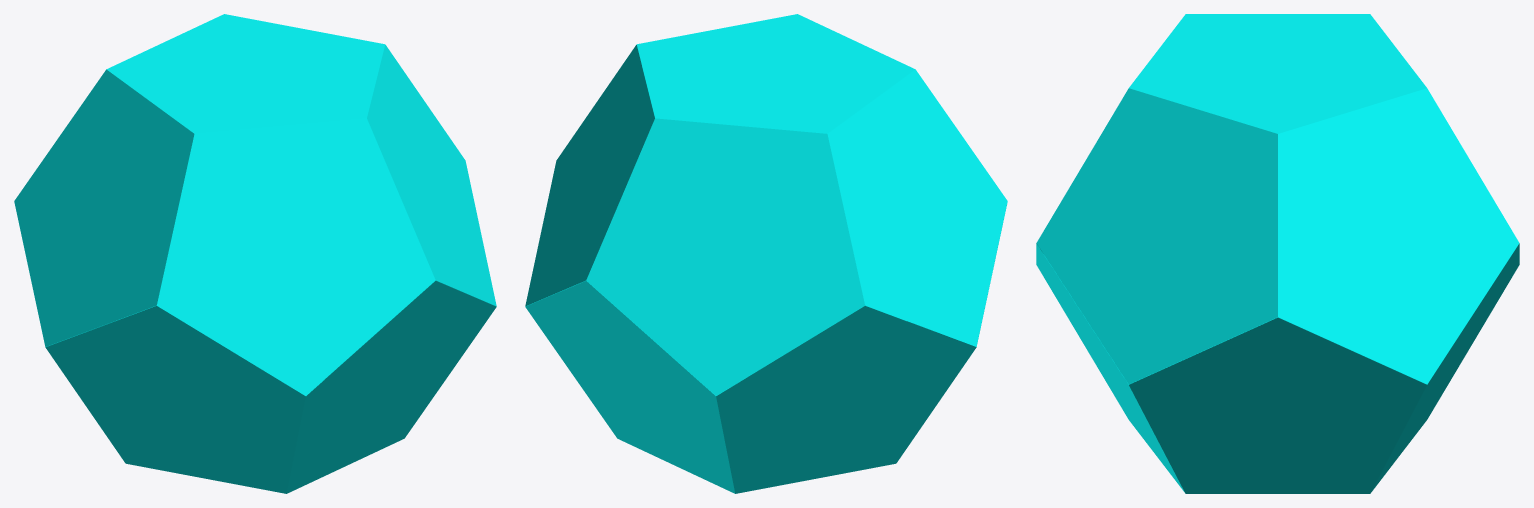
The model's file is figura05.fbx.
3 views of the same model, side by side, from view 1: azimuth 30°, elevation 25°; view 2: azimuth 150°, elevation 25°; view 3: azimuth 270°, elevation 25° (orthographic). The views are drawn at different scales.
Visible parts, largest first — view 1: Componente_1_11, Componente_1_12, Componente_1_2, Componente_1_7, Componente_1_6, Componente_1_10; view 2: Componente_1_8, Componente_1_12, Componente_1_3, Componente_1_7, Componente_1_4, Componente_1_9; view 3: Componente_1_9, Componente_1_10, Componente_1_5, Componente_1_7, Componente_1_4, Componente_1_6.
Boxes of the visible parts, bbox=[...] form: Componente_1_11: bbox=[157, 118, 435, 395]; Componente_1_12: bbox=[14, 69, 194, 346]; Componente_1_2: bbox=[45, 306, 305, 493]; Componente_1_7: bbox=[106, 14, 385, 133]; Componente_1_6: bbox=[286, 281, 496, 493]; Componente_1_10: bbox=[367, 45, 496, 306]; Componente_1_8: bbox=[586, 118, 864, 395]; Componente_1_12: bbox=[827, 69, 1007, 346]; Componente_1_3: bbox=[716, 306, 976, 493]; Componente_1_7: bbox=[636, 14, 915, 133]; Componente_1_4: bbox=[525, 281, 735, 493]; Componente_1_9: bbox=[525, 45, 654, 306]; Componente_1_9: bbox=[1278, 88, 1519, 384]; Componente_1_10: bbox=[1036, 88, 1277, 384]; Componente_1_5: bbox=[1129, 317, 1426, 493]; Componente_1_7: bbox=[1129, 14, 1426, 133]; Componente_1_4: bbox=[1371, 243, 1519, 492]; Componente_1_6: bbox=[1036, 243, 1184, 492].
Bounding box in the file's own units: 10.26 × 8.31 × 9.76.
